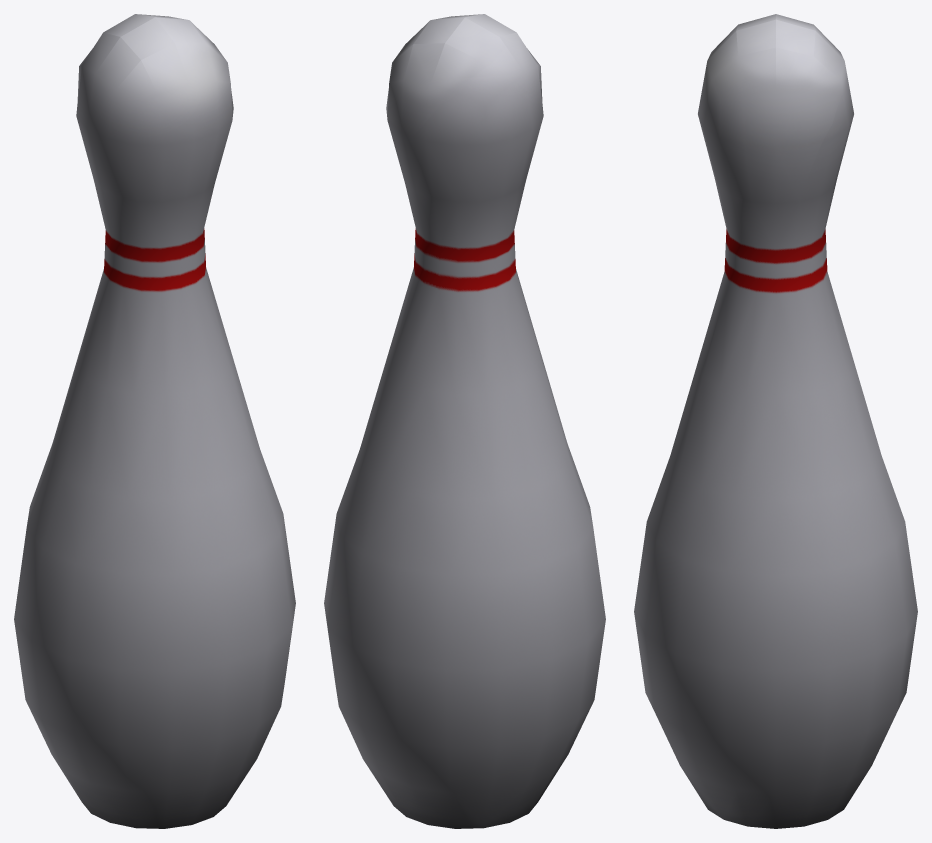
The model's file is pin_export.fbx.
The picture shows the model from 3 angles, left to right: view 1: azimuth 30°, elevation 25°; view 2: azimuth 150°, elevation 25°; view 3: azimuth 270°, elevation 25°; orthographic projection.
Visible parts, largest first — view 1: pin_export; view 2: pin_export; view 3: pin_export.
Boxes of the visible parts, x1,y1,x2,y2 form: pin_export: (14,14,295,828); pin_export: (324,14,605,828); pin_export: (634,14,917,828).
Size of the model in its own units: 1.26 by 3.81 by 1.26.
Materials: 1 (1 with a texture image).
